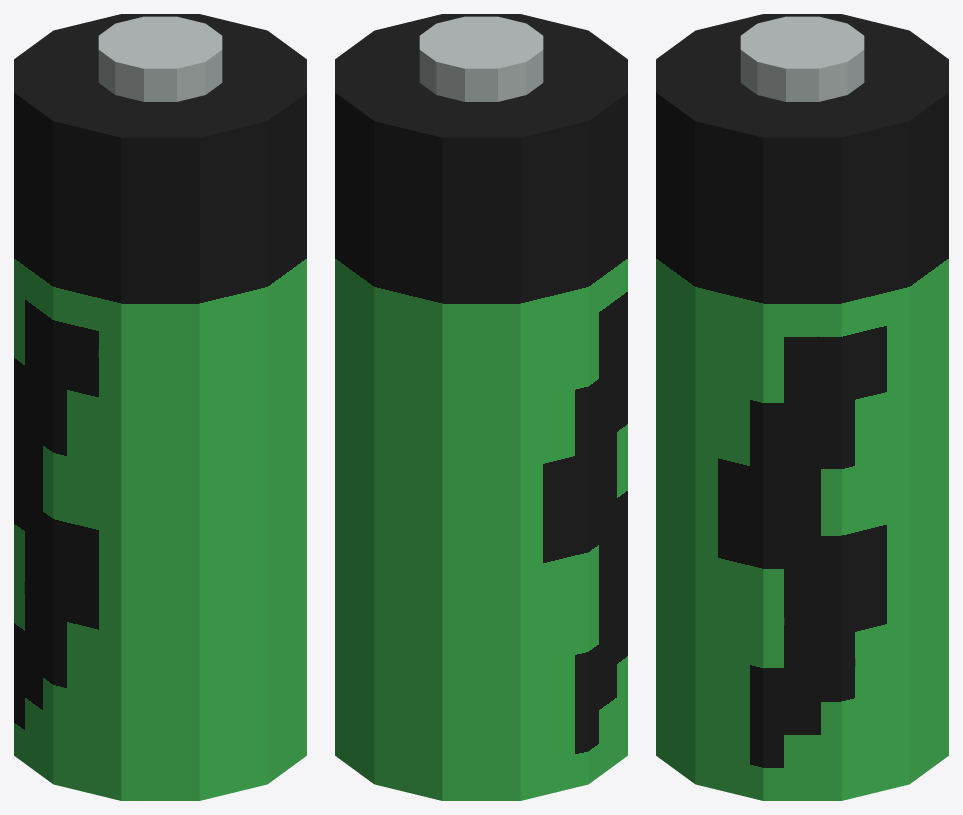
The model's file is battery.fbx.
3 renders of one model, left to right at view 1: azimuth 30°, elevation 25°; view 2: azimuth 150°, elevation 25°; view 3: azimuth 270°, elevation 25°, orthographic.
Visible parts, largest first — view 1: cylinder; view 2: cylinder; view 3: cylinder.
Part boxes in pixels (bbox=[...]): cylinder: bbox=[14, 14, 306, 800]; cylinder: bbox=[335, 14, 627, 800]; cylinder: bbox=[656, 14, 948, 800].
Size of the model in its own units: 50 by 131 by 50.
1 material, 1 textured.
